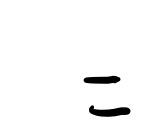eqv: (84, 76, 130, 117)
